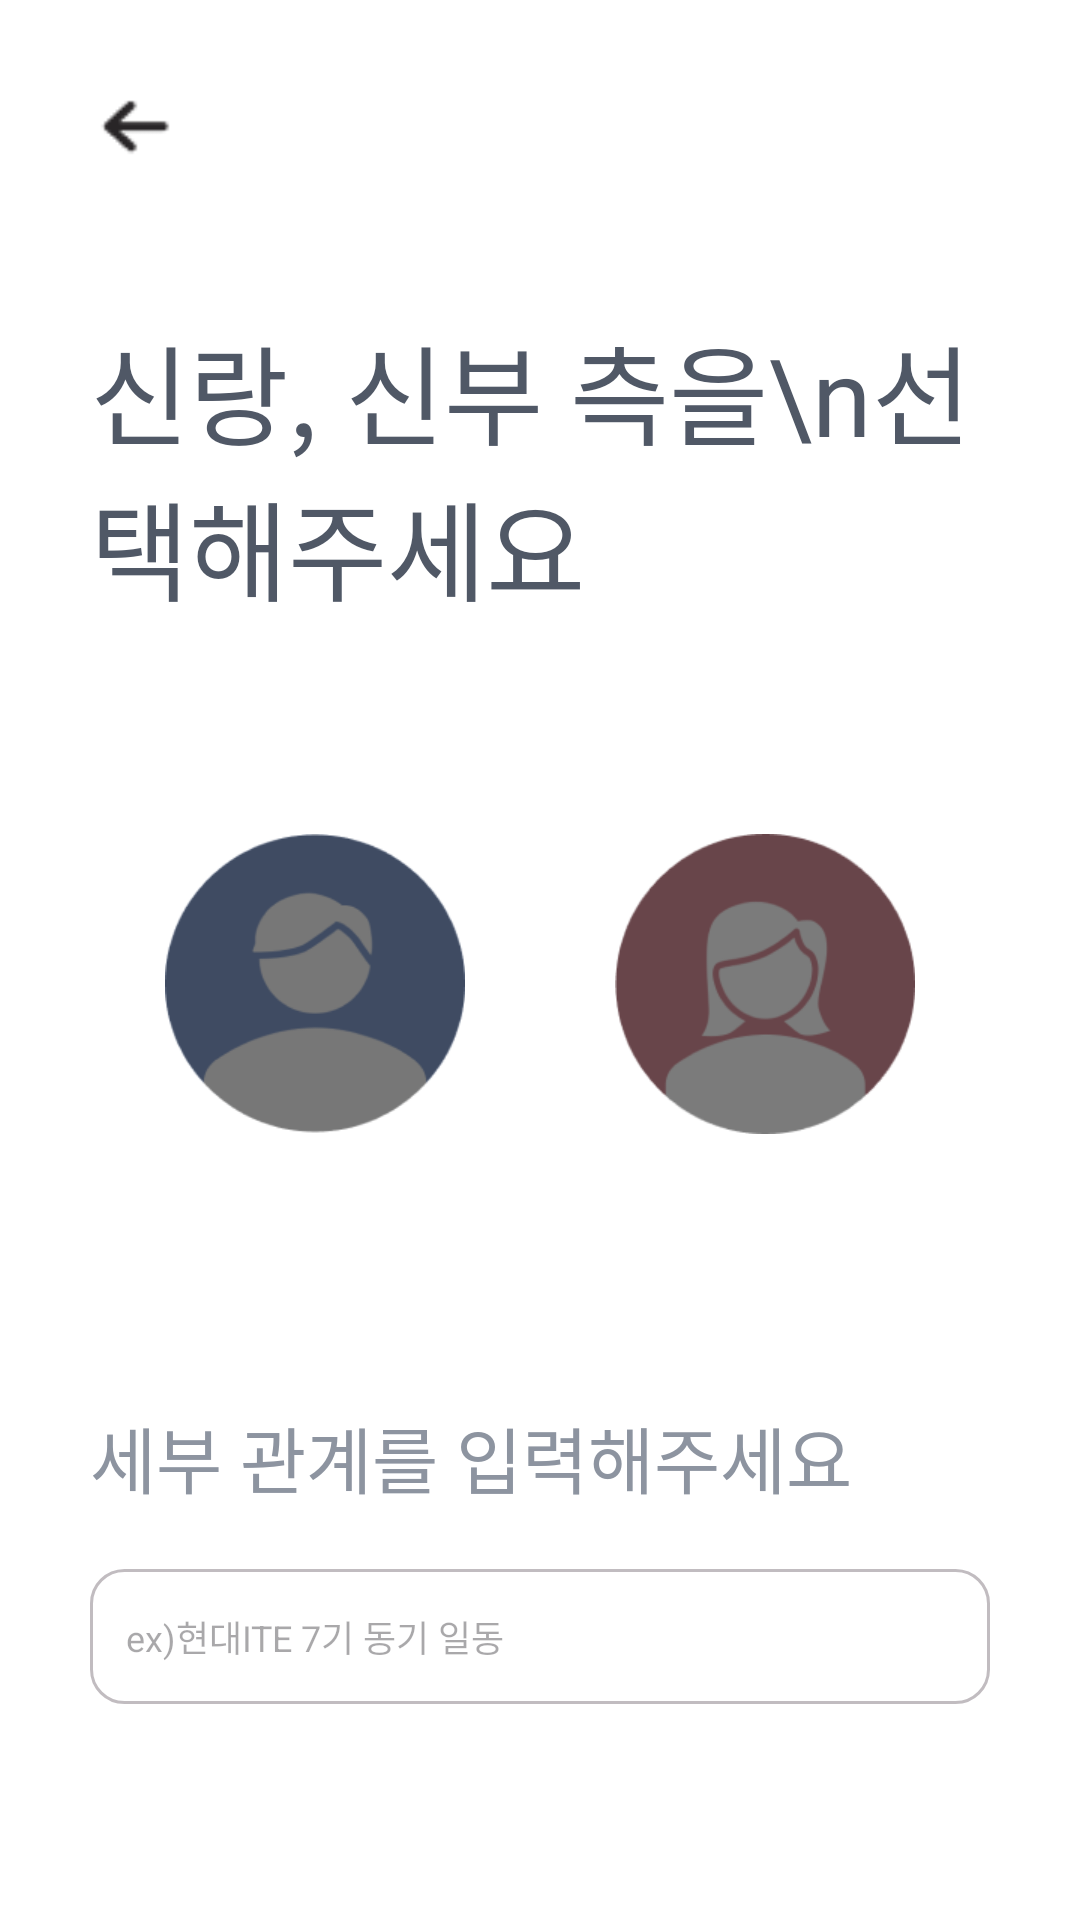

Icons on this 1080px x 1920px Android screen, each with its box as (x1,y1,x2,y2):
back arrow: (103,100,169,153)
